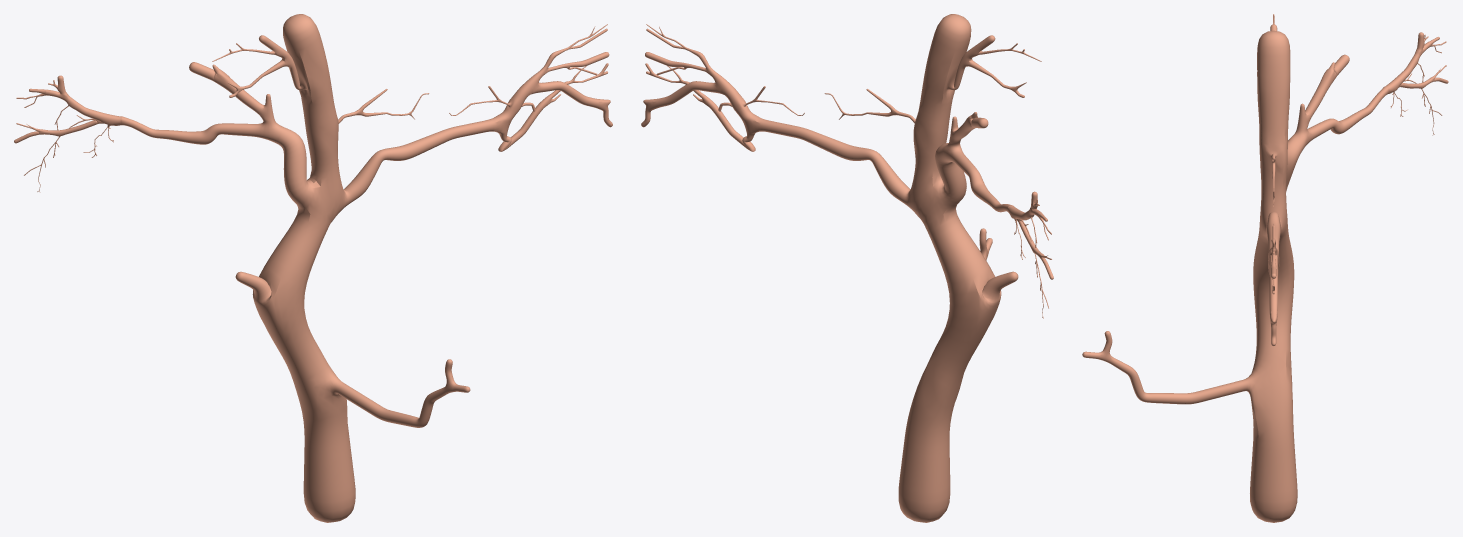
Rendered from plant_variant_1.fbx.
3 views of the same model, side by side, from view 1: azimuth 30°, elevation 25°; view 2: azimuth 150°, elevation 25°; view 3: azimuth 270°, elevation 25° (orthographic). The views are drawn at different scales.
Parts seen in each view (by area): view 1: Vert; view 2: Vert; view 3: Vert.
Part boxes in pixels (bbox=[...]): Vert: bbox=[14, 14, 612, 522]; Vert: bbox=[641, 14, 1053, 522]; Vert: bbox=[1082, 14, 1448, 522].
Size of the model in its own units: 142 by 96.1 by 138.
